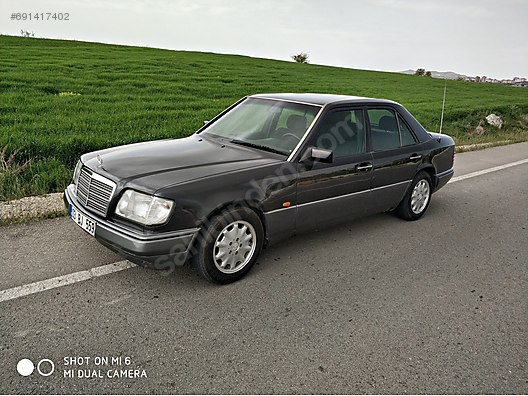mercedes: (49, 76, 472, 283)
